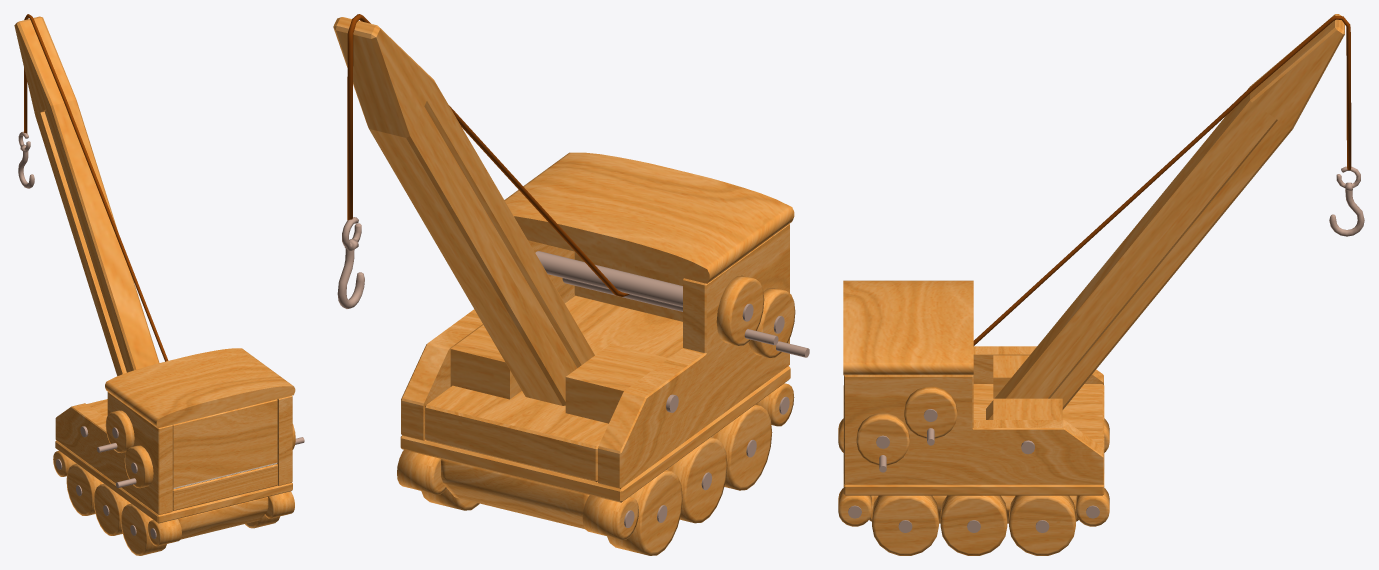
File: CraneWithHook.fbx
3 views of the same model, side by side, from view 1: azimuth 30°, elevation 25°; view 2: azimuth 150°, elevation 25°; view 3: azimuth 270°, elevation 25° (orthographic). The views are drawn at different scales.
Parts seen in each view (by area): view 1: Crane, Arm, Cable, Hook; view 2: Crane, Arm, Hook, Cable; view 3: Crane, Arm, Cable, Hook.
Boxes of the visible parts, <box> form: Crane: <box>53,348,295,555</box>; Arm: <box>14,16,159,375</box>; Cable: <box>24,14,168,361</box>; Hook: <box>18,131,304,538</box>; Crane: <box>397,152,795,555</box>; Arm: <box>333,17,594,405</box>; Hook: <box>337,217,809,527</box>; Cable: <box>347,14,629,296</box>; Crane: <box>838,280,1109,555</box>; Arm: <box>986,14,1344,419</box>; Cable: <box>973,15,1351,345</box>; Hook: <box>848,166,1364,532</box>.
Size of the model in its own units: 11.23 by 22.91 by 21.9.
